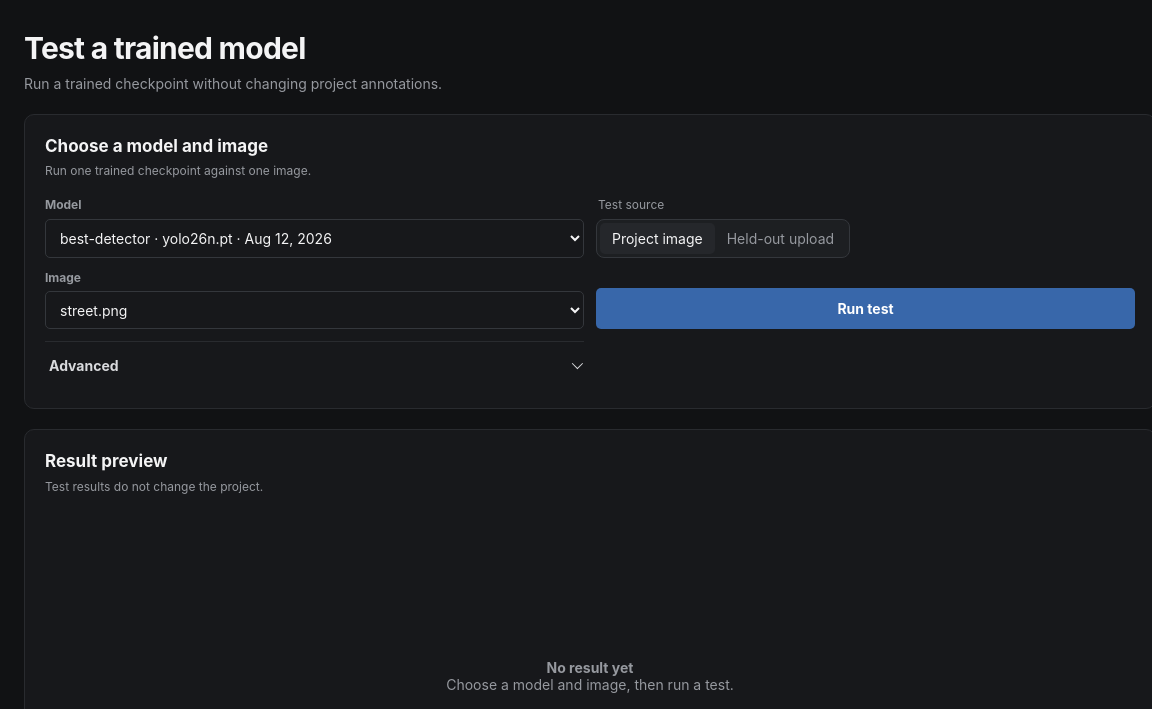
TestWorkspace › keeps confidence settings in the shared disclosure
Expected: the heading "Test a trained model" is shown, [24,30,306,66]
Click the heading "Advanced".
click(84, 366)  # box [49,357,119,374]
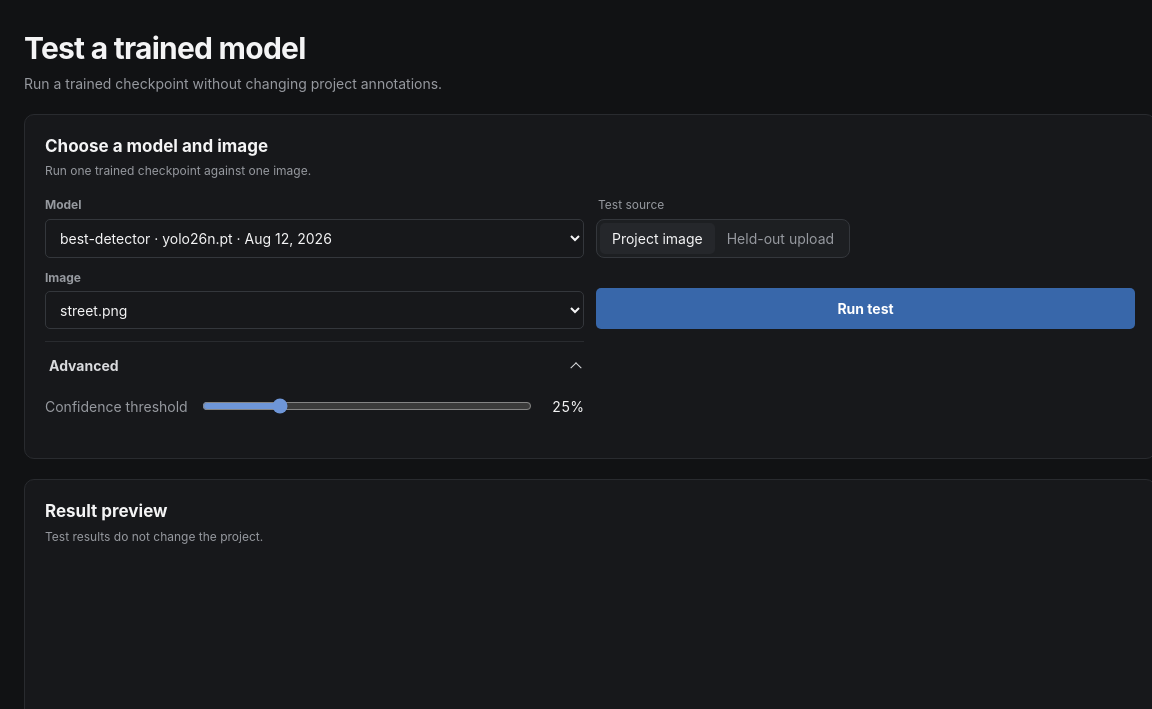
Expected: the slider labelled "Confidence threshold" is shown
Set the slider labelled "Confidence threshold" to "0.4" at (332, 406), box [202,390,532,422]
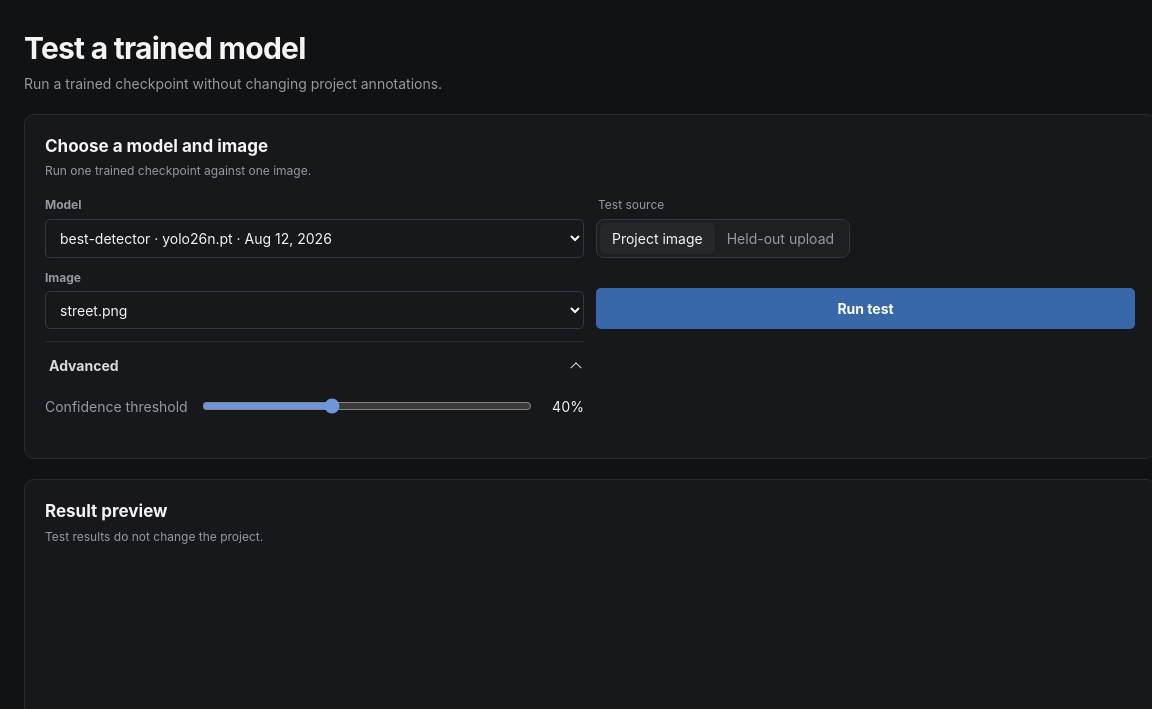
Expected: the text "40%" is shown, [552,398,584,415]
